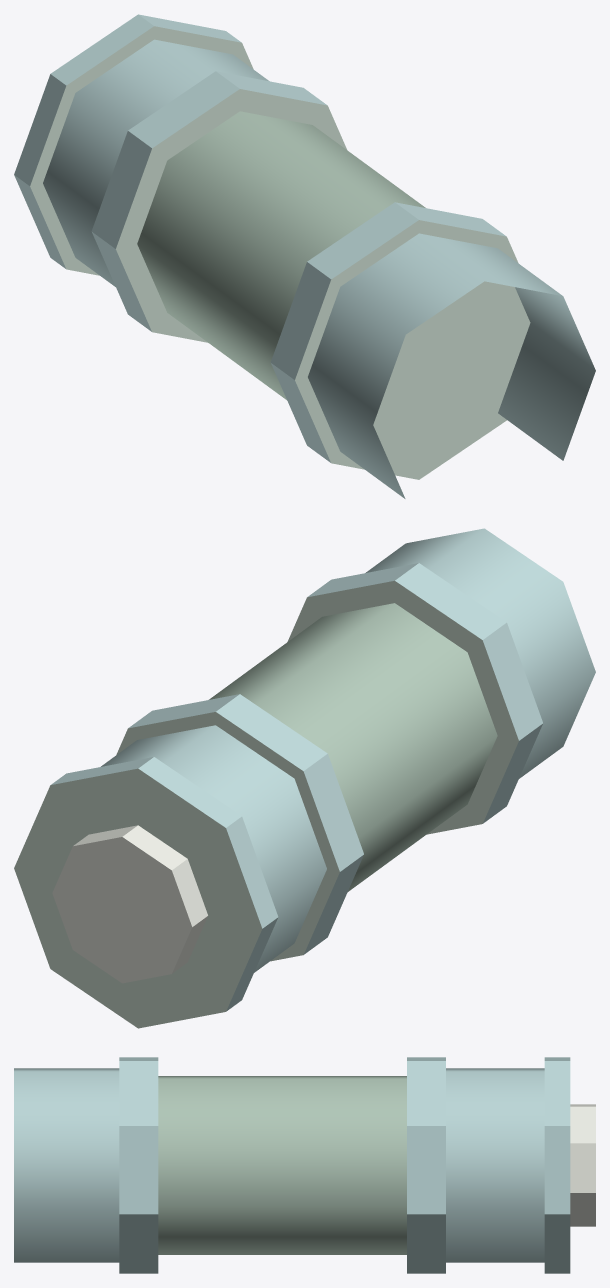
3 views of the same model, one above another, from view 1: azimuth 30°, elevation 25°; view 2: azimuth 150°, elevation 25°; view 3: azimuth 270°, elevation 25° (orthographic). The views are drawn at different scales.
Visible parts, largest first — view 1: Object60; view 2: Object60; view 3: Object60.
Boxes of the visible parts, x1=… form: Object60: x1=14, y1=14, x2=595, y2=498; Object60: x1=14, y1=528, x2=595, y2=1028; Object60: x1=14, y1=1057, x2=595, y2=1273.
Bounding box in the file's own units: 82.67 × 82.67 × 209.
